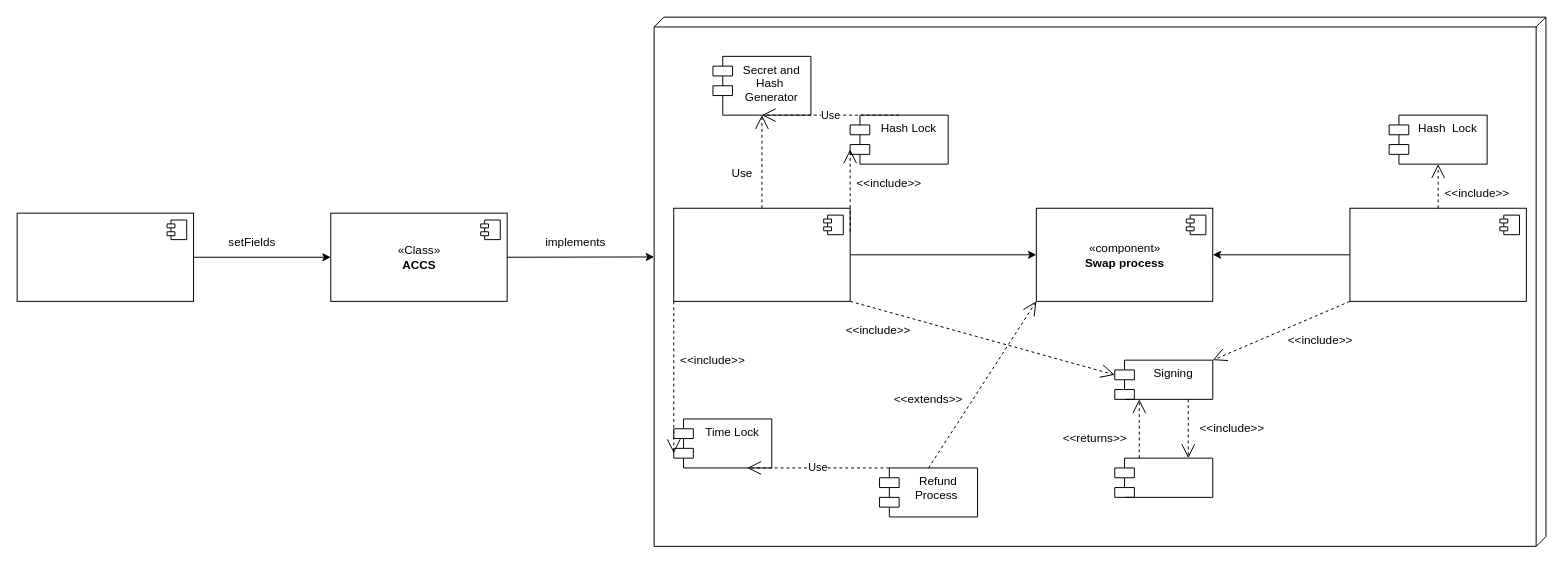
This 1563x564 diagram has some shape labels left out. Here are the shapes that lost their labels. From the top down, the box of each, then its label:
(16, 212, 194, 301): «UI» Swapchain Web Application
(673, 207, 850, 301): «component» HTLC creation
(1349, 207, 1526, 301): «component» HTLC acceptance
(1114, 457, 1213, 497): Signature verification
